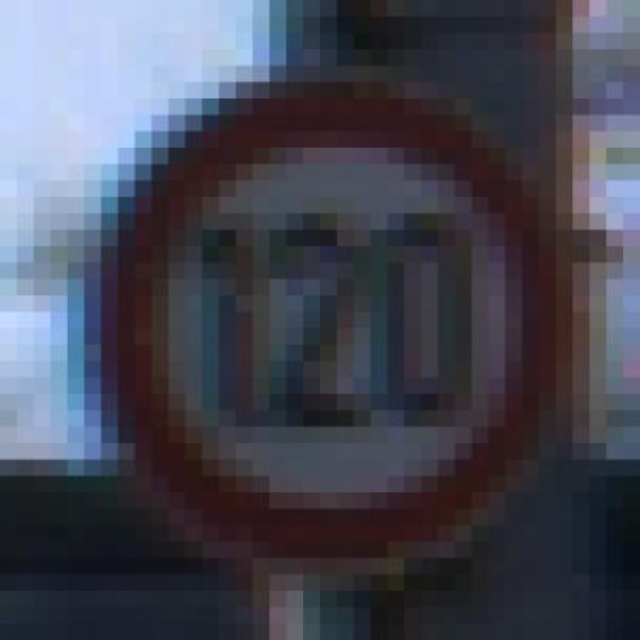Tốc độ tối đa cho phép 120km/h: (108, 78, 558, 561)
